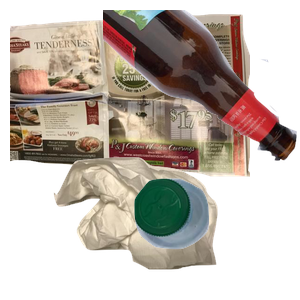glass: (103, 10, 300, 163)
paper: (10, 11, 250, 180)
plastic: (132, 176, 300, 300)
trash: (51, 155, 261, 300)
